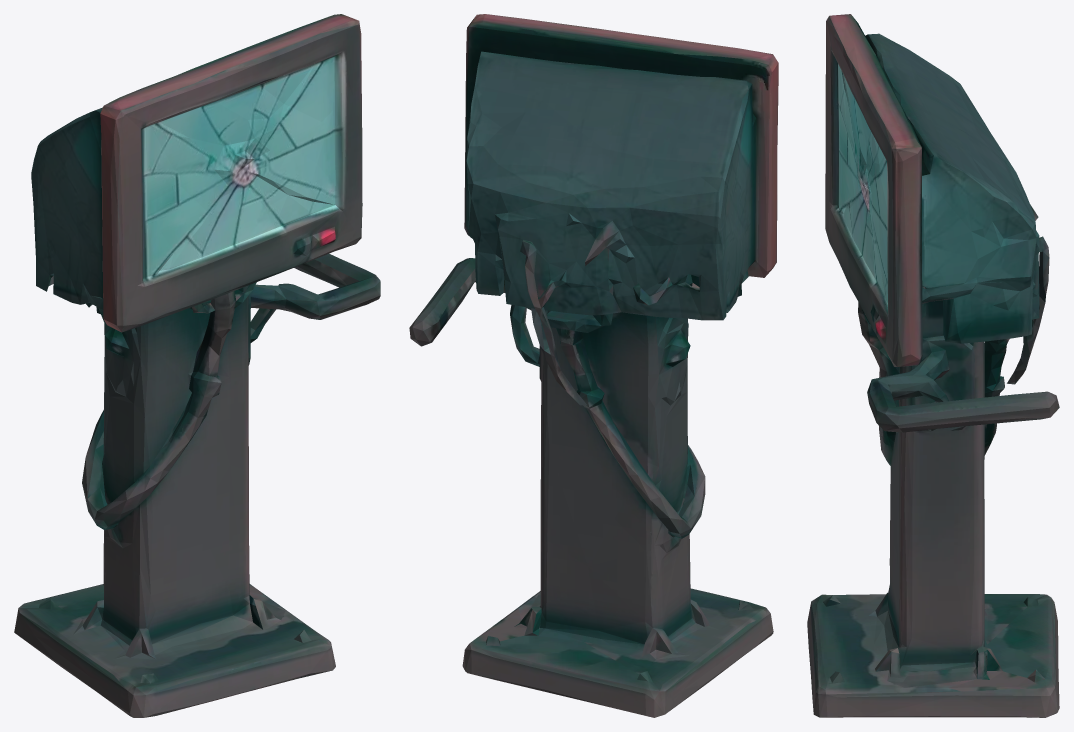
Rendered from terminal.glb.
3 views of the same model, side by side, from view 1: azimuth 30°, elevation 25°; view 2: azimuth 150°, elevation 25°; view 3: azimuth 270°, elevation 25° (orthographic). The views are drawn at different scales.
Parts seen in each view (by area): view 1: figure; view 2: figure; view 3: figure.
Part boxes in pixels (x1,y1,x2,y2): figure: [14, 14, 380, 717]; figure: [409, 14, 778, 717]; figure: [807, 14, 1059, 717].
Bounding box in the file's own units: 0.4835 × 0.9 × 0.3422.
1 material, 1 textured.
